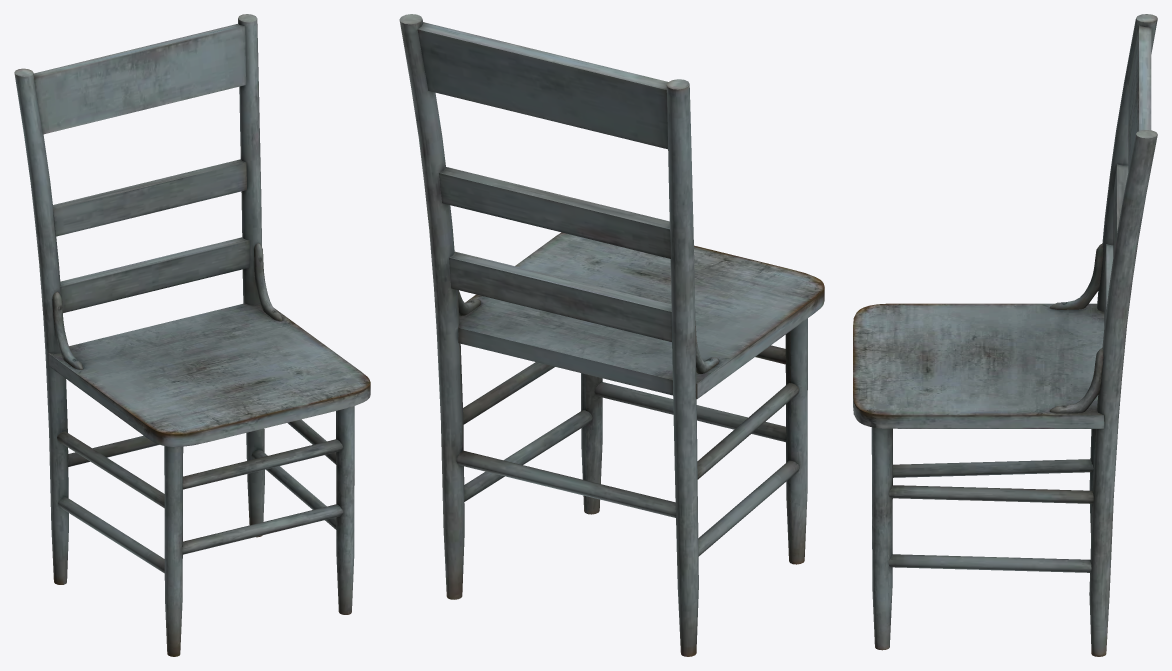
File: painted_wooden_chair_02.glb
3 views of the same model, side by side, from view 1: azimuth 30°, elevation 25°; view 2: azimuth 150°, elevation 25°; view 3: azimuth 270°, elevation 25° (orthographic). The views are drawn at different scales.
Parts seen in each view (by area): view 1: painted_wooden_chair_02; view 2: painted_wooden_chair_02; view 3: painted_wooden_chair_02.
Part boxes in pixels (<box>): painted_wooden_chair_02: <box>14,14,370,656</box>; painted_wooden_chair_02: <box>399,14,824,656</box>; painted_wooden_chair_02: <box>853,14,1157,656</box>.
Bounding box in the file's own units: 0.5059 × 1 × 0.5239.
1 material, 1 textured.
